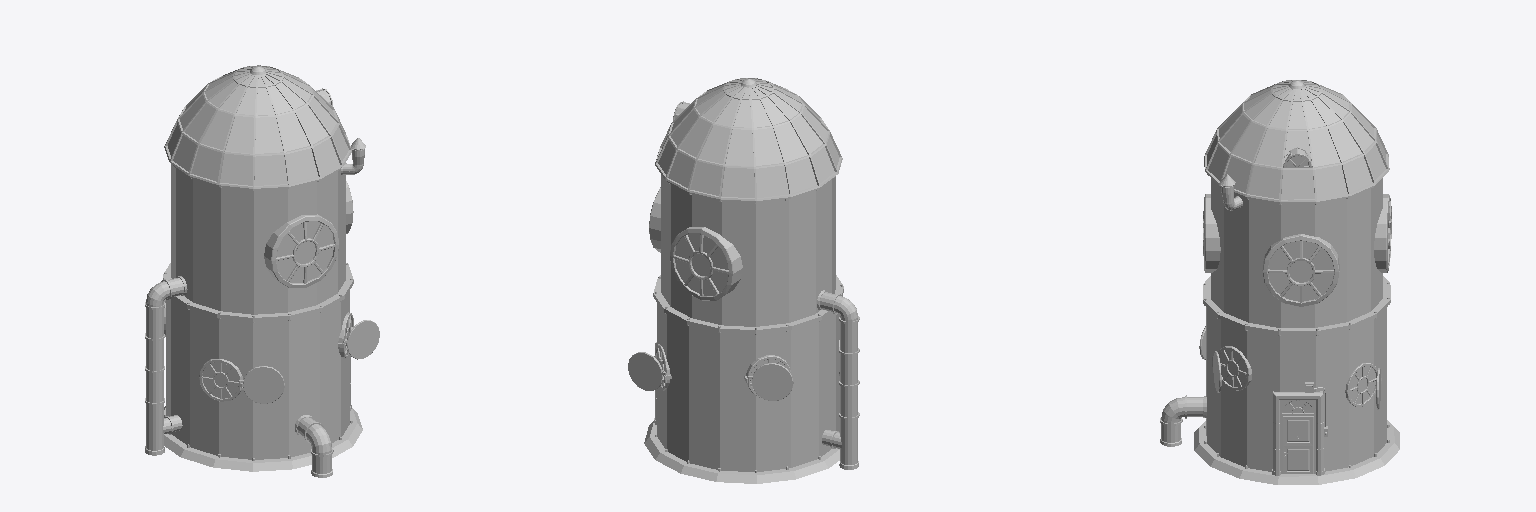
Rendered from domek.obj.
3 views of the same model, side by side, from view 1: azimuth 30°, elevation 25°; view 2: azimuth 150°, elevation 25°; view 3: azimuth 270°, elevation 25° (orthographic).
Visible parts, largest first — view 1: Cylinder.001; view 2: Cylinder.001; view 3: Cylinder.001.
Boxes of the visible parts, x1=… form: Cylinder.001: x1=145, y1=65, x2=379, y2=477; Cylinder.001: x1=628, y1=78, x2=859, y2=483; Cylinder.001: x1=1160, y1=80, x2=1399, y2=484.
Bounding box in the file's own units: 7.54 × 12.96 × 7.83.